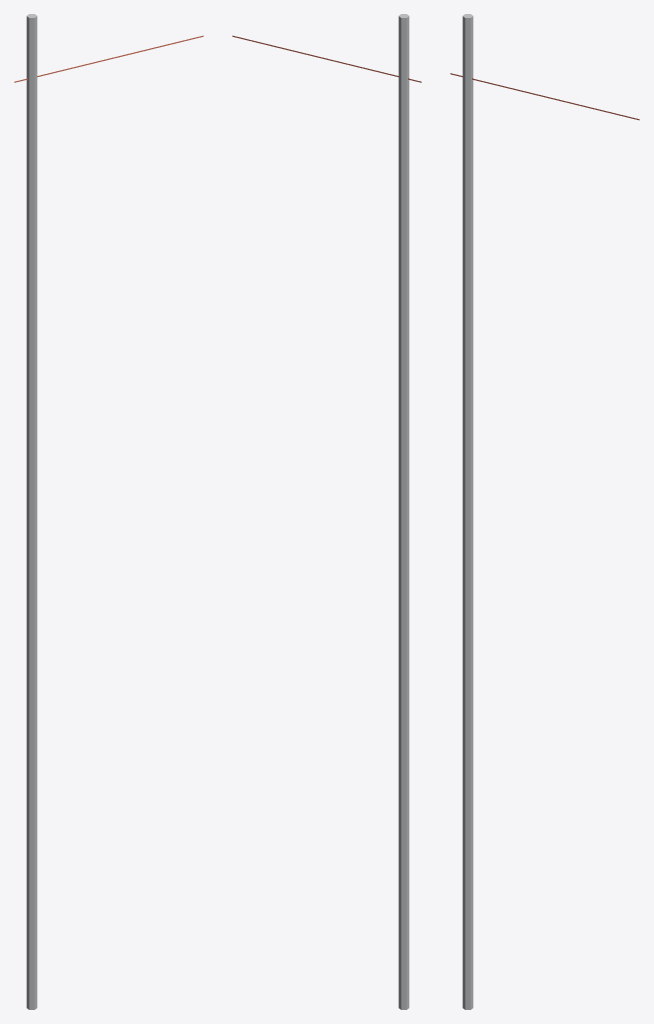
File: flagpole.glb
The picture shows the model from 3 angles, left to right: view 1: azimuth 30°, elevation 25°; view 2: azimuth 150°, elevation 25°; view 3: azimuth 330°, elevation 25°; orthographic projection.
Visible parts, largest first — view 1: Flagpole; view 2: Flagpole; view 3: Flagpole.
Part boxes in pixels (left/top/right/bottom): Flagpole: left=14, top=14, right=203, bottom=1009; Flagpole: left=232, top=14, right=421, bottom=1009; Flagpole: left=450, top=14, right=639, bottom=1009.
Size of the model in its own units: 3.2 by 16 by 0.16.
